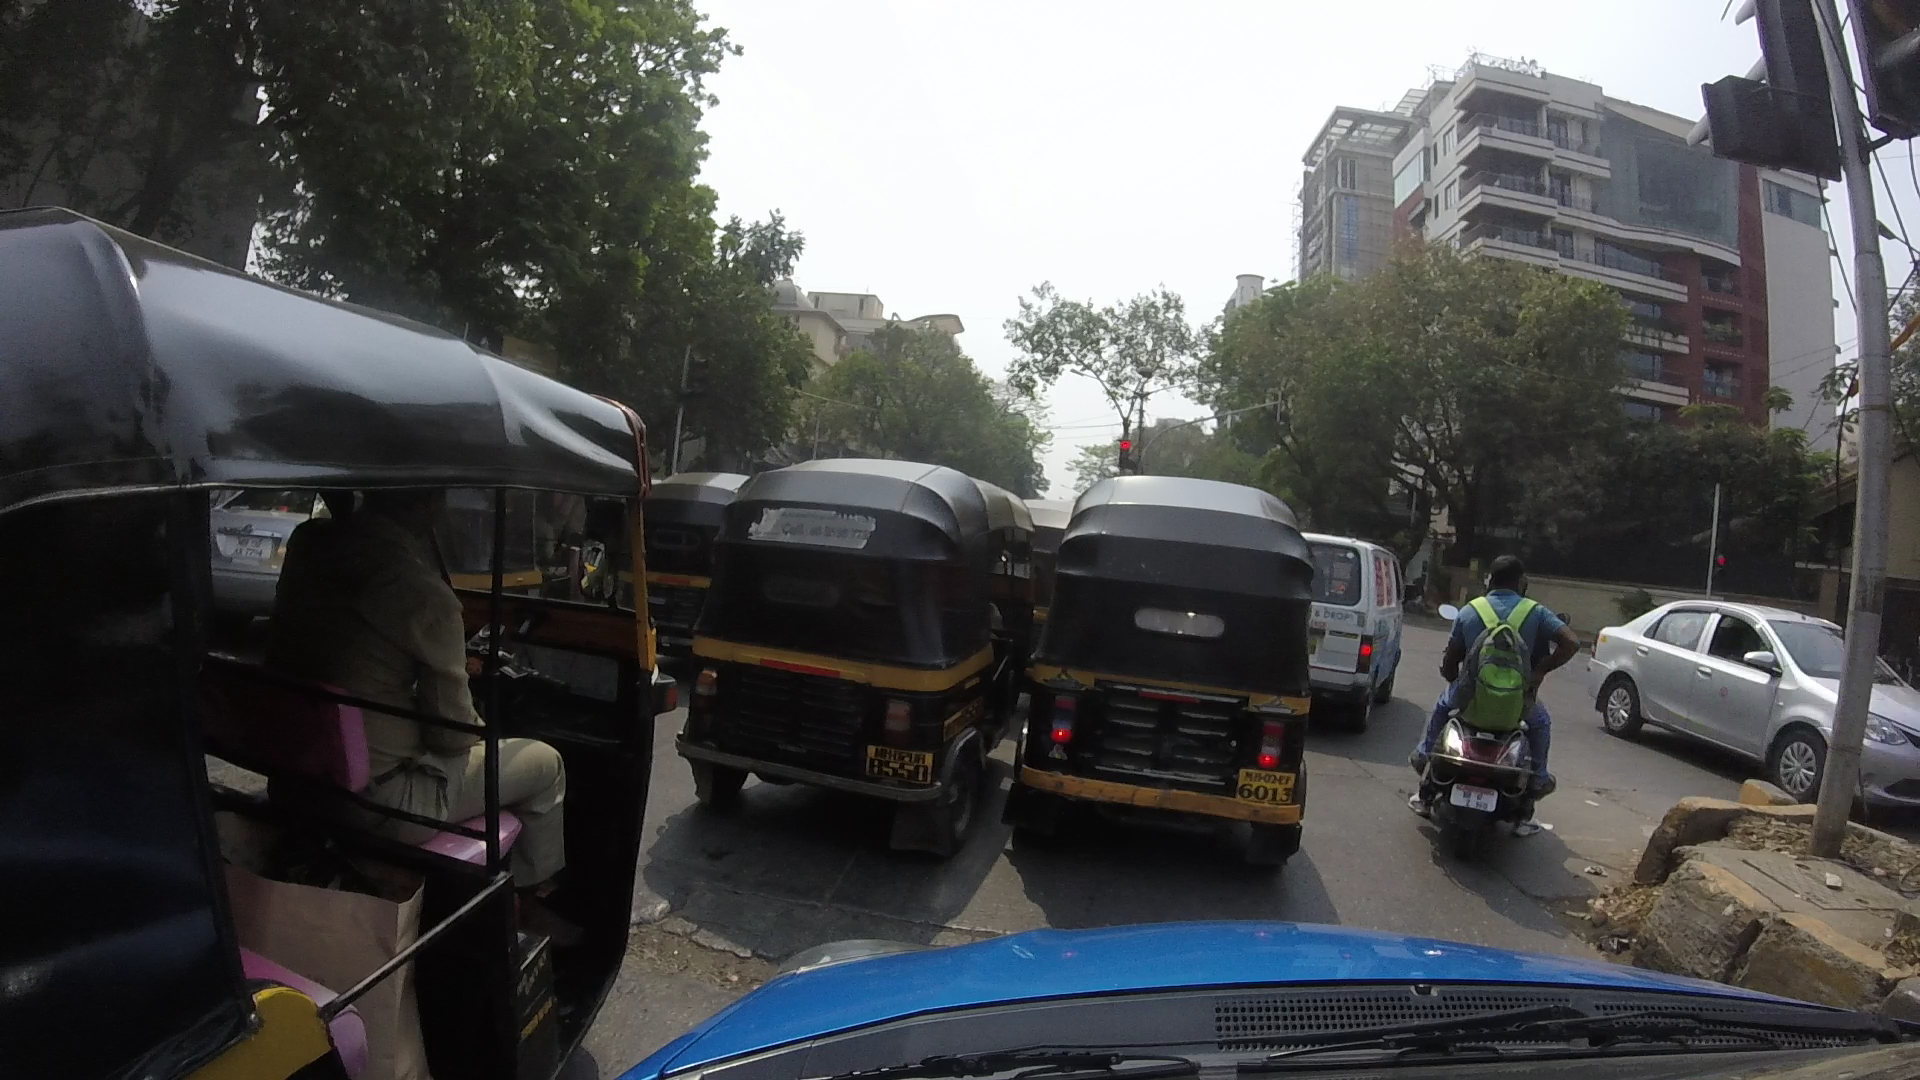bike/scooter: (1412, 551, 1577, 857)
car: (1598, 556, 1920, 818), (1288, 510, 1429, 713)
rickshaw: (12, 207, 647, 1072), (686, 442, 1030, 845), (1030, 454, 1324, 878)
